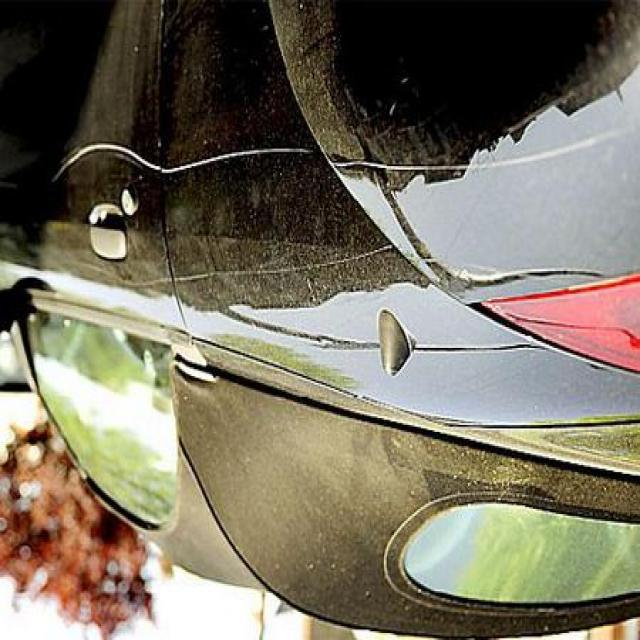scratch: (336, 122, 614, 178), (39, 132, 319, 186)
